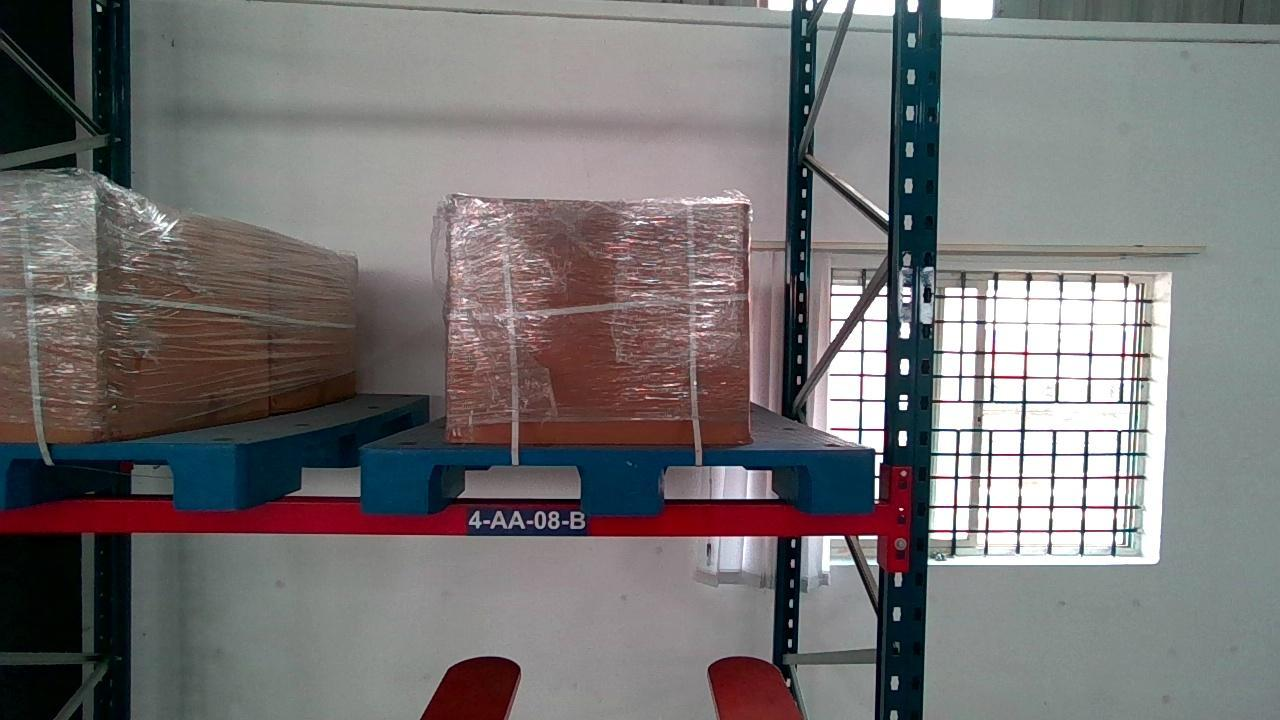h_rack: (2, 501, 891, 536)
small_pallet: (360, 450, 875, 509)
